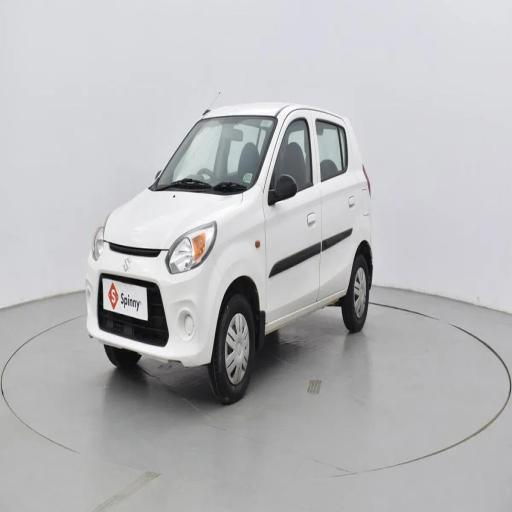License: (98, 272, 150, 320)
